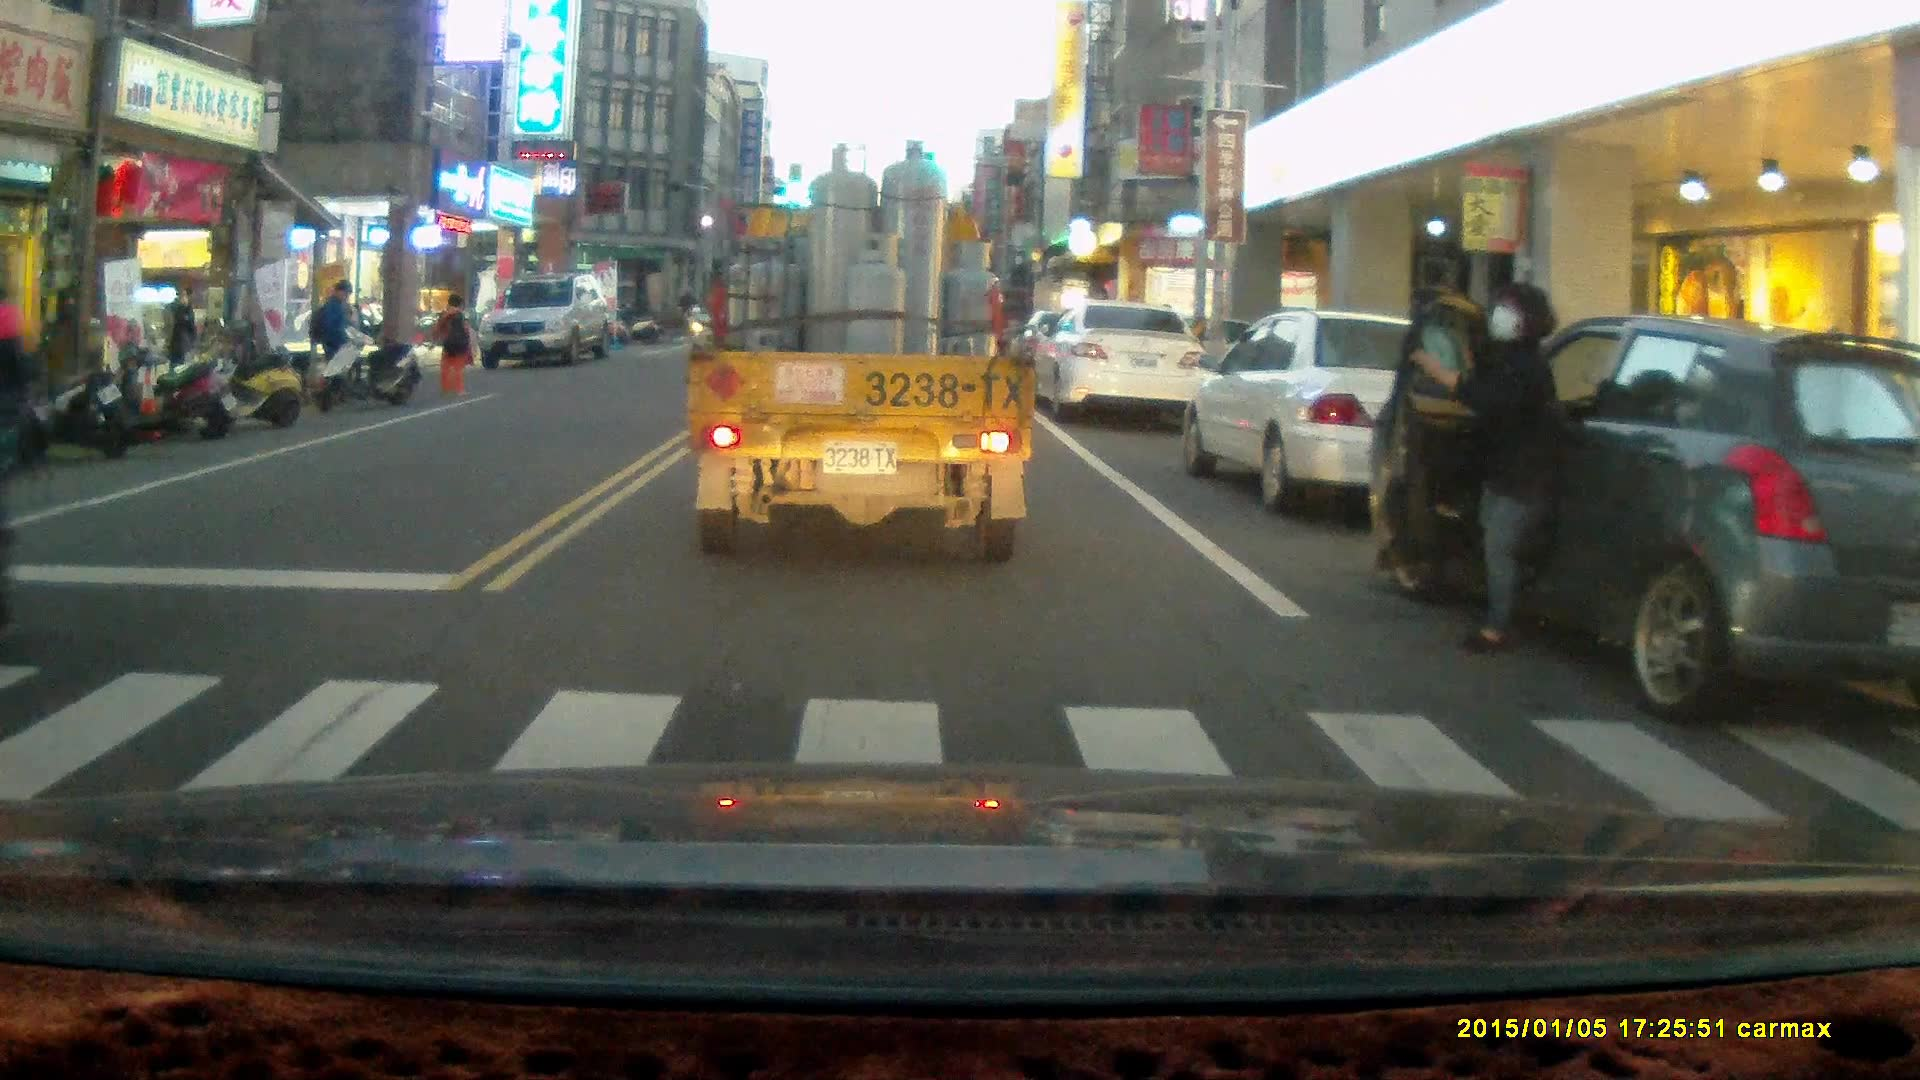pedestrian: (1416, 282, 1576, 657), (307, 278, 353, 399), (420, 291, 474, 394), (160, 285, 199, 405)
vehicle: (1381, 317, 1920, 719), (684, 135, 1042, 566), (1192, 314, 1533, 518), (1039, 301, 1217, 425), (479, 281, 615, 370)
